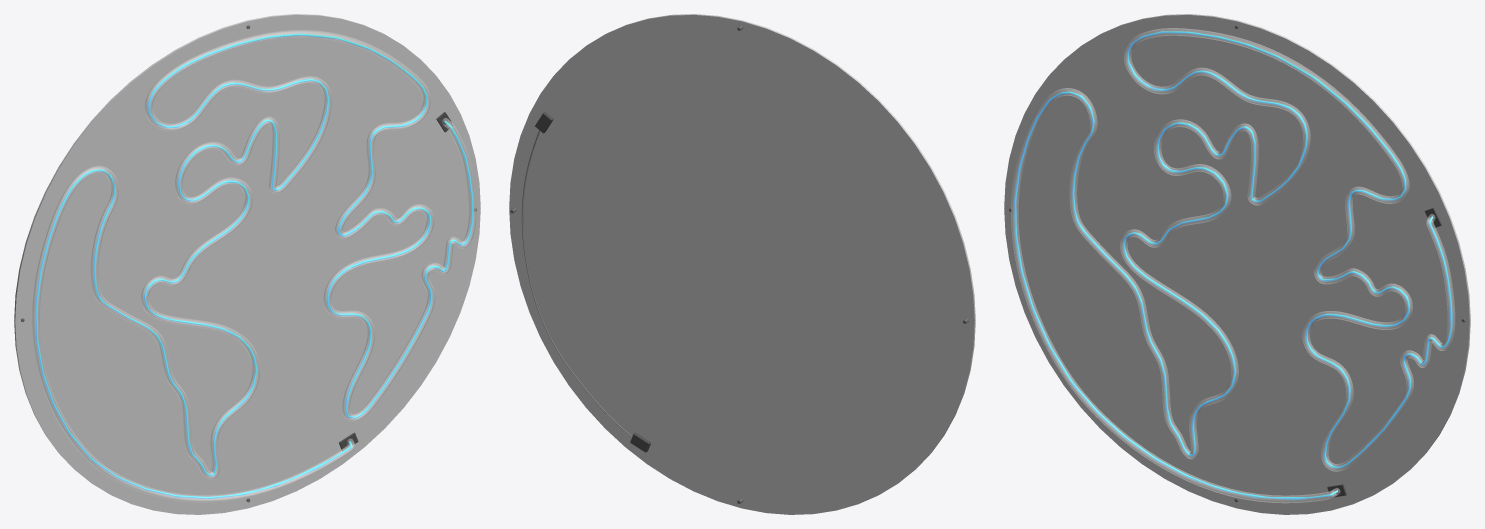
Rendered from neon_earth.glb.
The picture shows the model from 3 angles, left to right: view 1: azimuth 30°, elevation 25°; view 2: azimuth 150°, elevation 25°; view 3: azimuth 330°, elevation 25°; orthographic projection.
Parts seen in each view (by area): view 1: Acrylic, Glass, Emissive; view 2: Acrylic, Cable; view 3: Acrylic, Glass, Emissive.
Boxes of the visible parts, x1,y1,x2,y2 form: Acrylic: (14,14,480,514); Glass: (32,30,476,502); Emissive: (35,33,473,498); Acrylic: (509,14,975,514); Cable: (521,130,632,437); Acrylic: (1004,14,1470,514); Glass: (1011,28,1455,503); Emissive: (1014,31,1452,499).
Bounding box in the file's own units: 0.3566 × 0.3566 × 0.0147.
